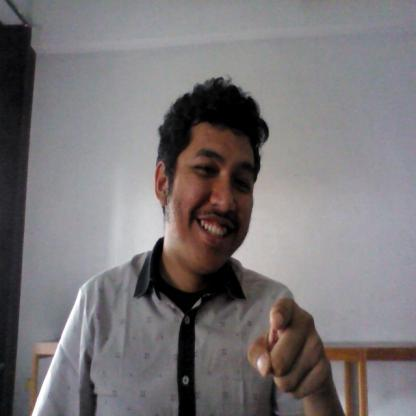Kamu: (230, 293, 344, 402)
